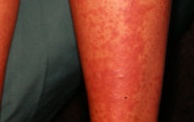SJS-TEN: (80, 0, 169, 122)
